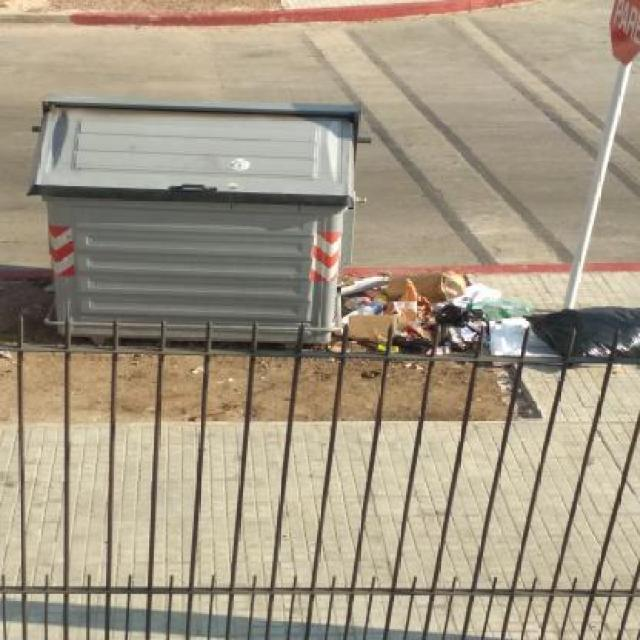garbage: (342, 275, 640, 360)
